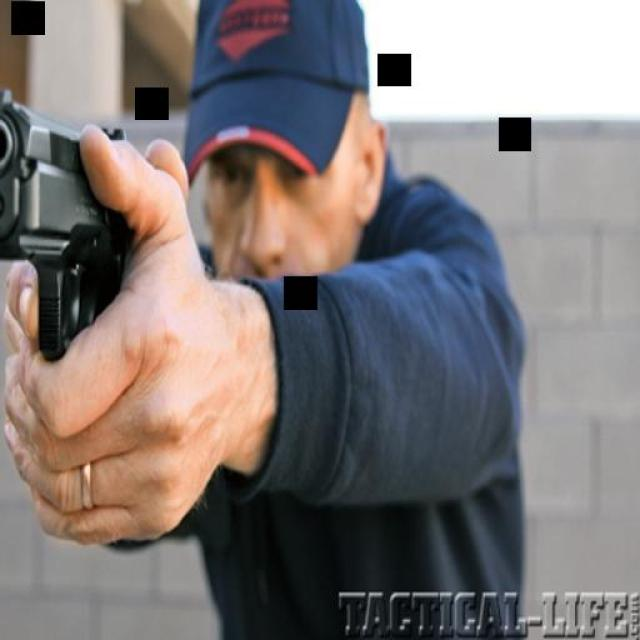gun: (1, 78, 141, 362)
